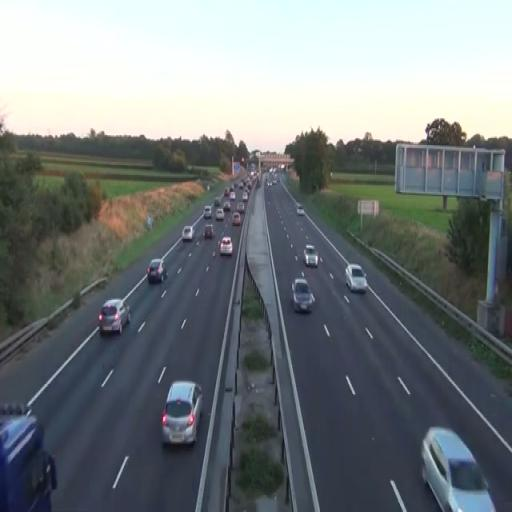Car: (420, 425, 496, 512), (161, 380, 204, 446), (98, 298, 132, 335), (291, 278, 315, 314), (345, 264, 368, 294), (146, 258, 168, 284), (304, 244, 318, 268), (219, 237, 233, 257), (182, 225, 194, 241), (231, 211, 242, 227), (204, 223, 214, 239), (203, 206, 212, 218)
Truck: (0, 402, 58, 510)
